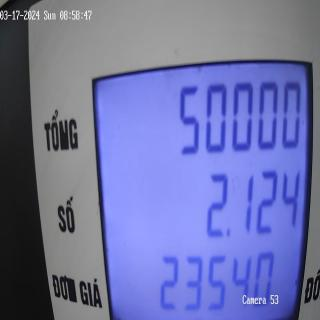screen: (88, 46, 316, 320)
